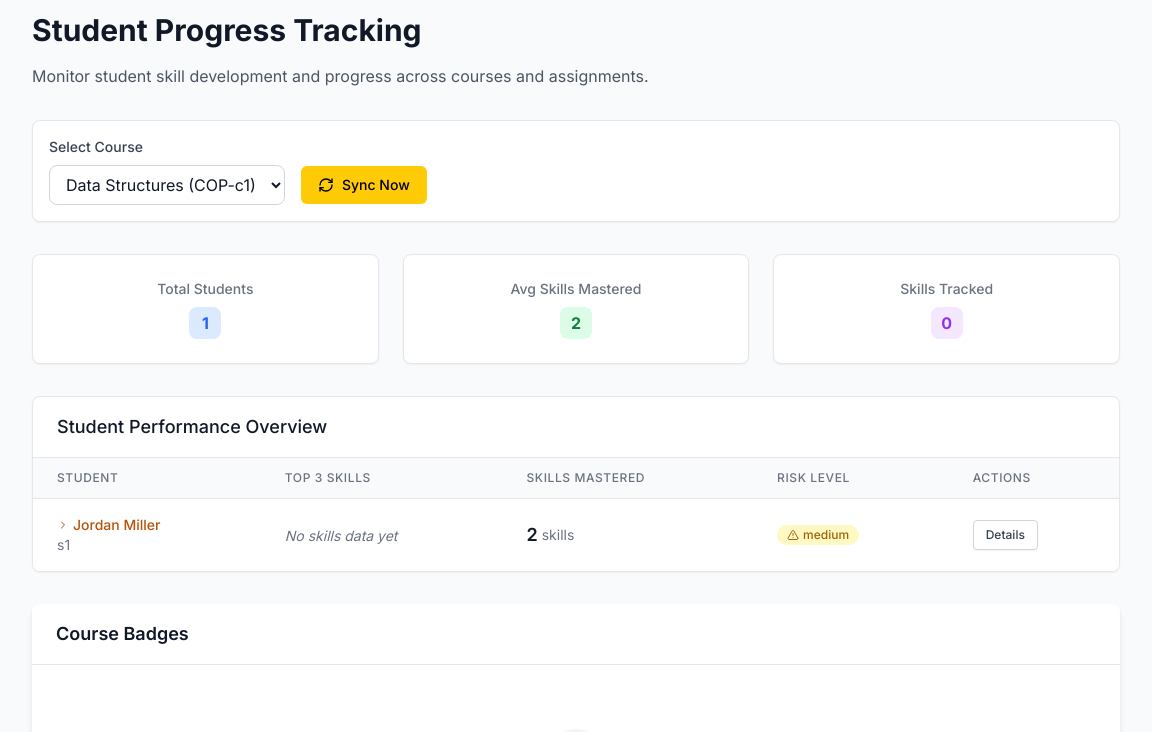
Test: instructor badge view › a failed badge load shows the real backend error, not a generic one
What coordinates should you click on to do the following:
click the button "Jordan Miller"
I would click on:
 (109, 525)
Its box is [57,515,160,535].
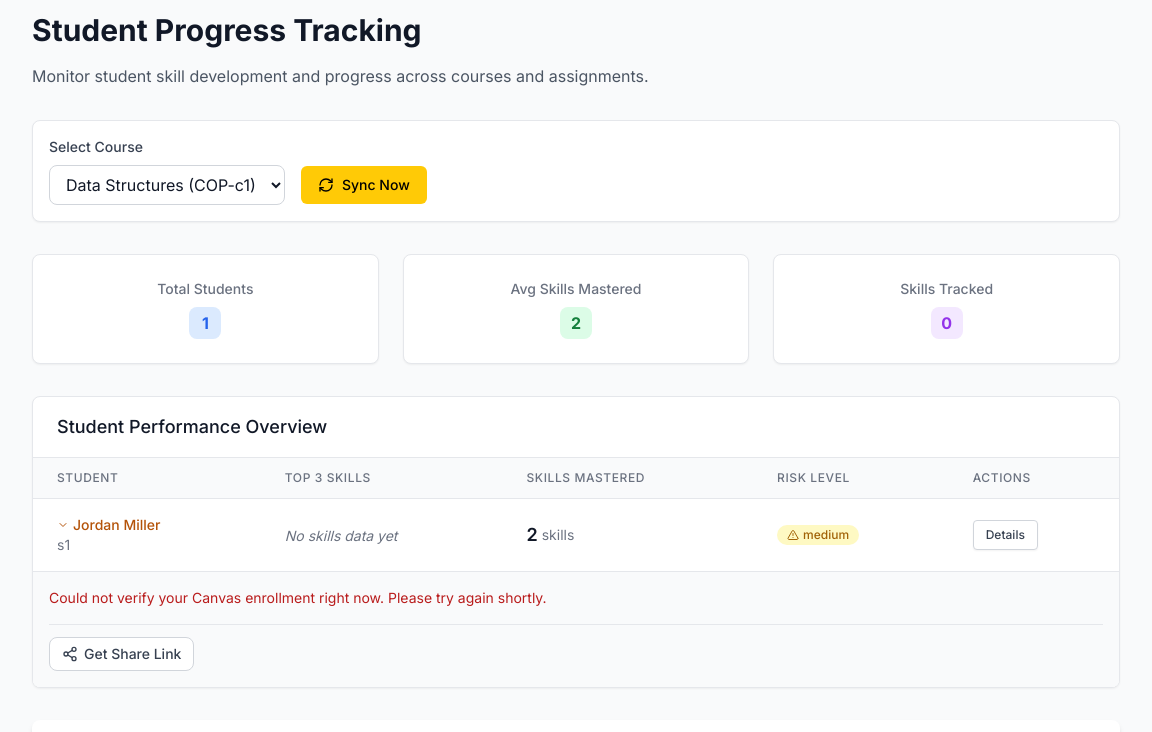
Now the text "Could not verify your Canvas enrollment right now. Please try again shortly." is shown, box [49,589,547,606]
